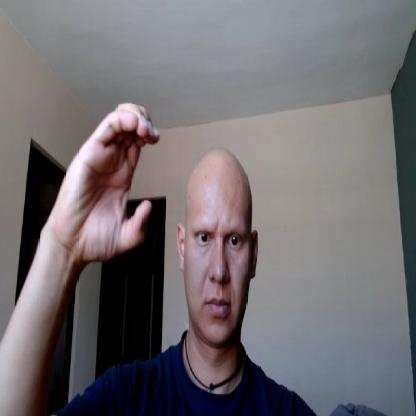C: (59, 100, 161, 264)
